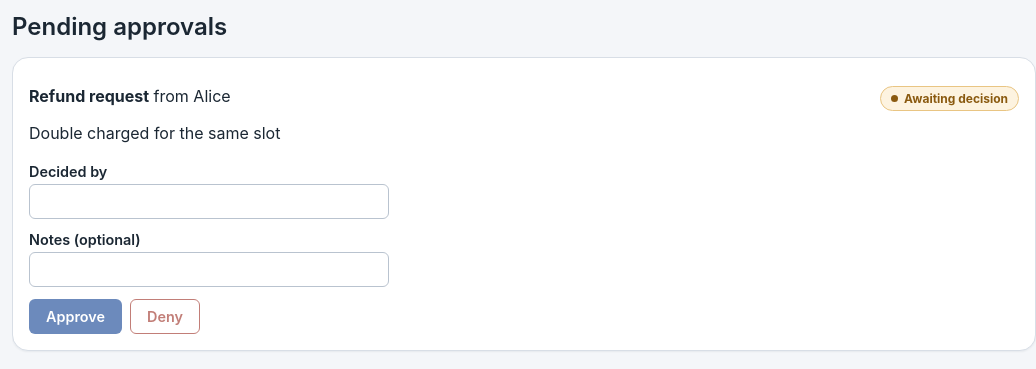
Test: ApprovalsPage › approving an escalation removes it from the list
Expected: the text "Refund request" is shown, [29,86,149,106]
Type "Manager Mo" into the field labelled "Decided by" at [209, 202], box [29,184,389,219]
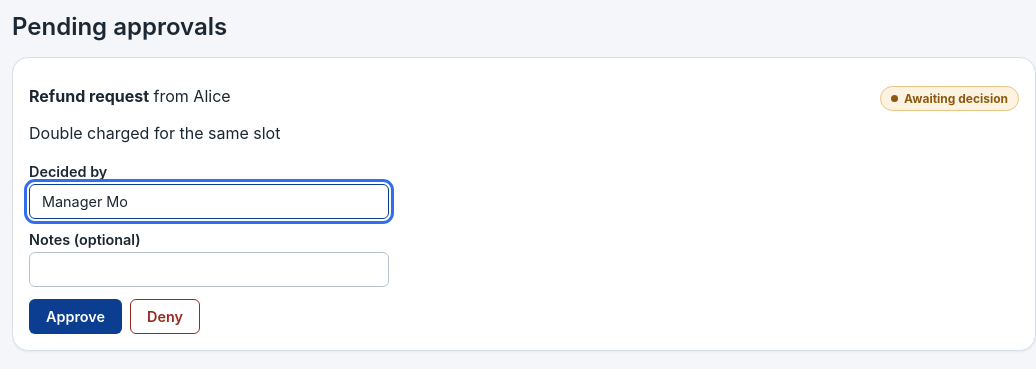
Click the button "Approve" at [76, 317], box [29,299,122,334]
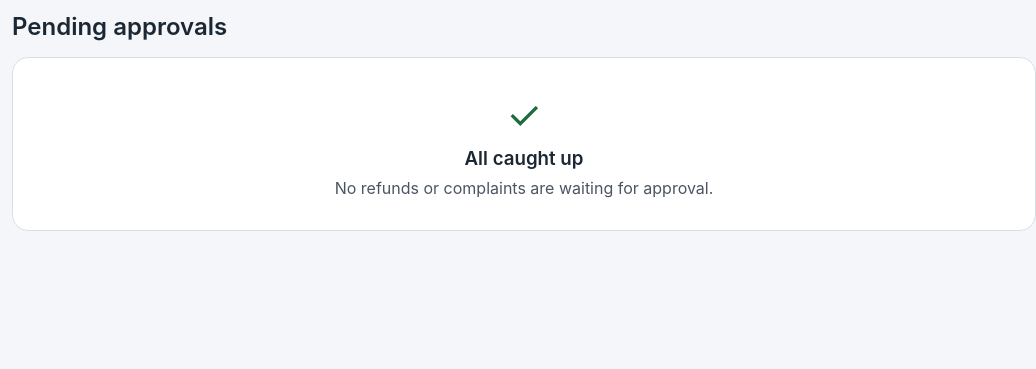
Now the text "Refund request" is gone
